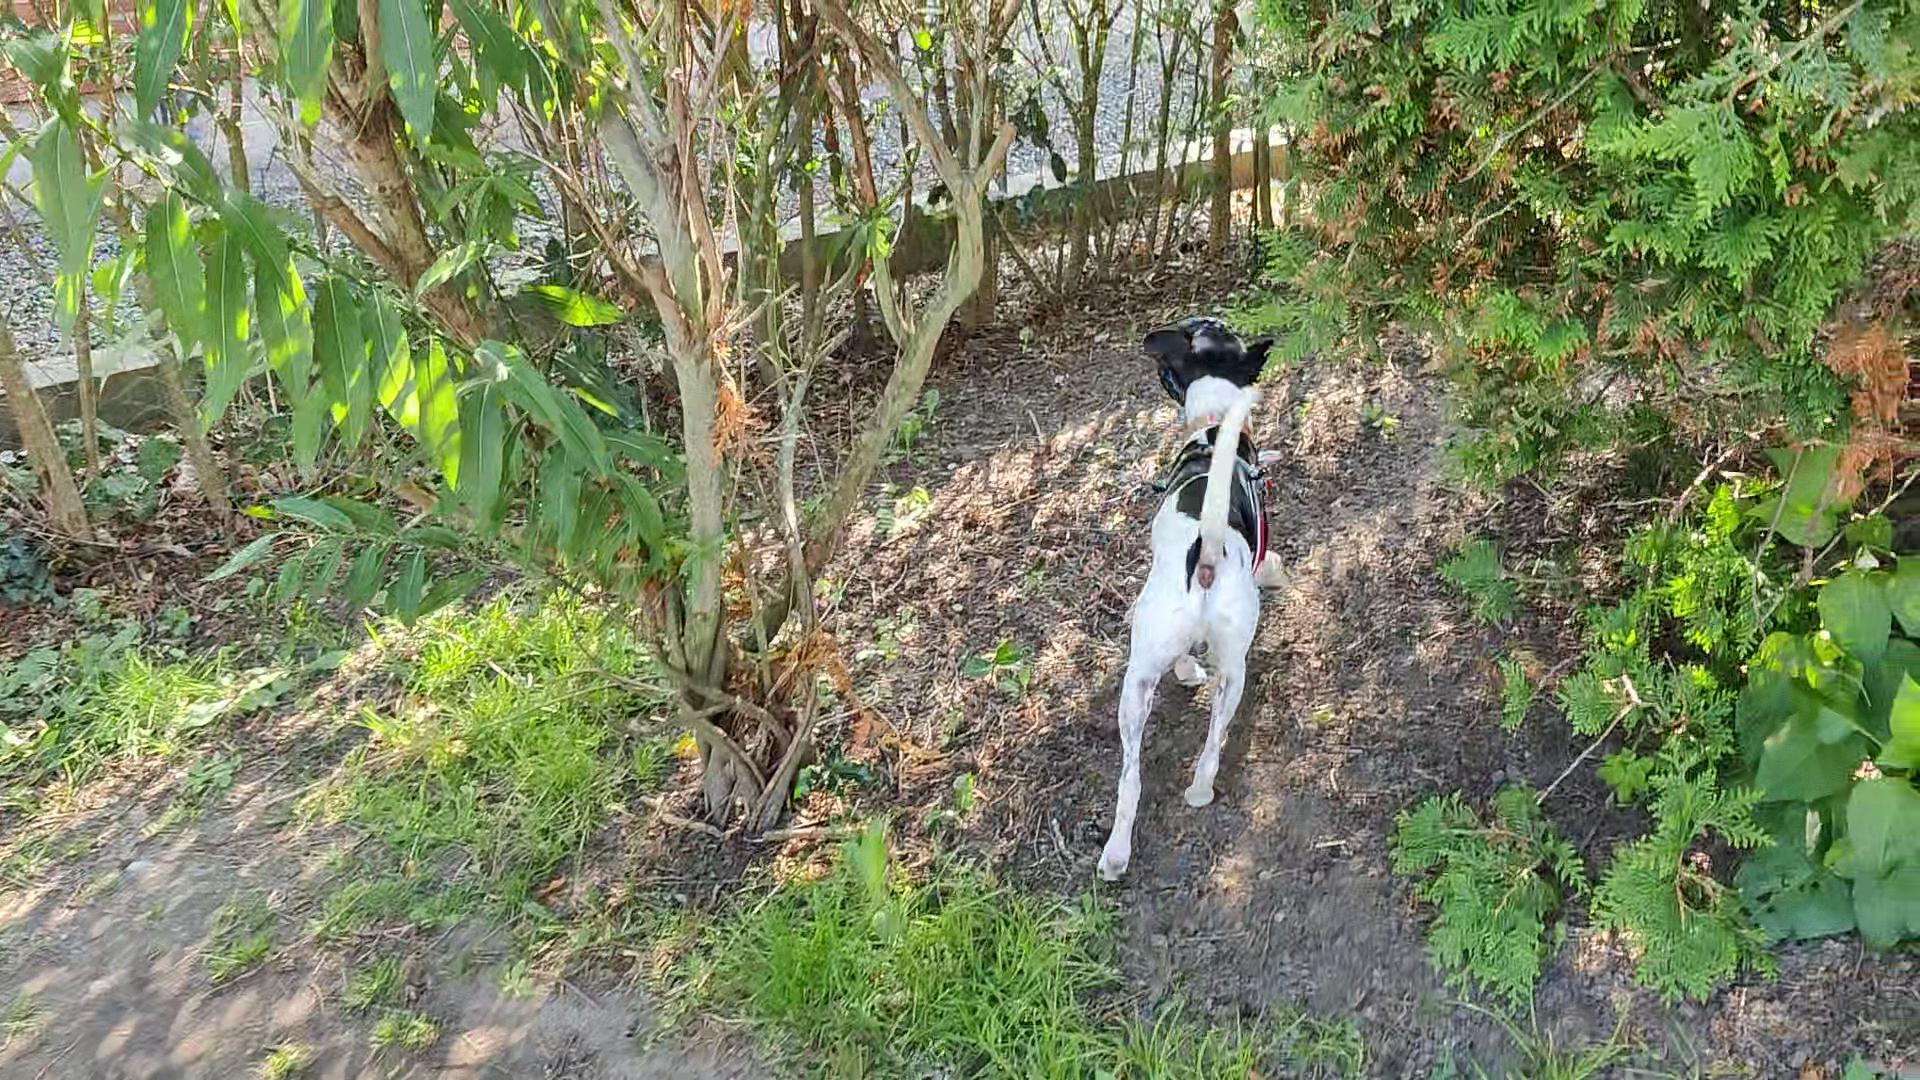Dog: (1073, 295, 1287, 891)
